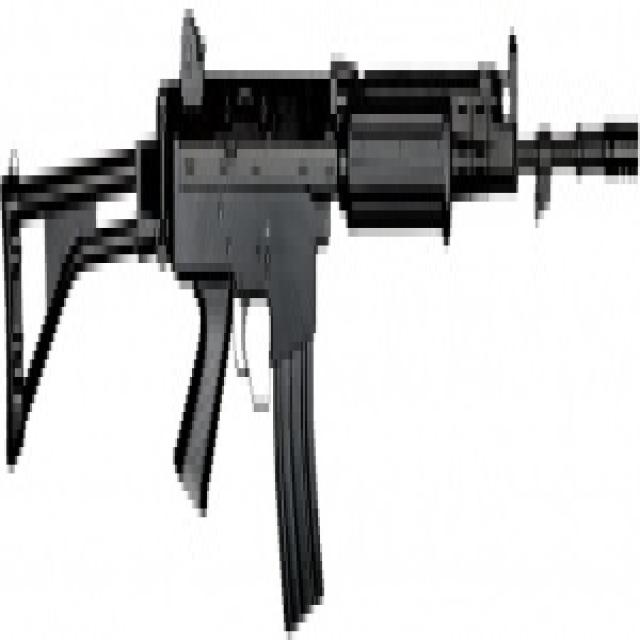rifle: (3, 7, 640, 640)
